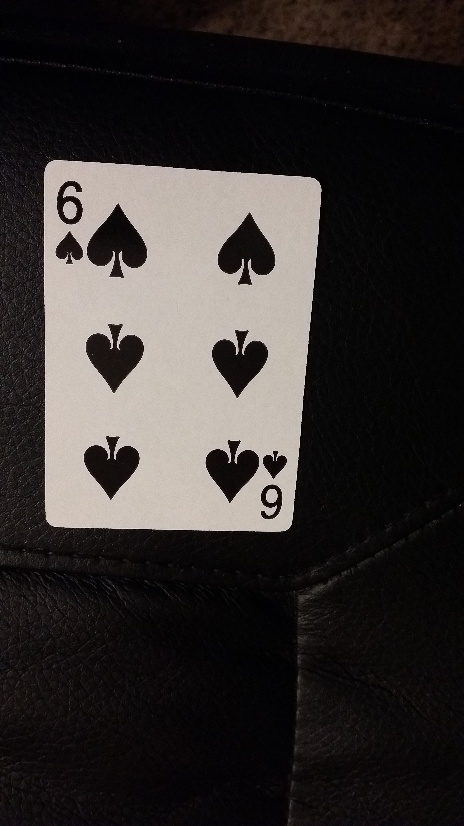S6: (50, 173, 87, 272), (258, 443, 288, 526)
